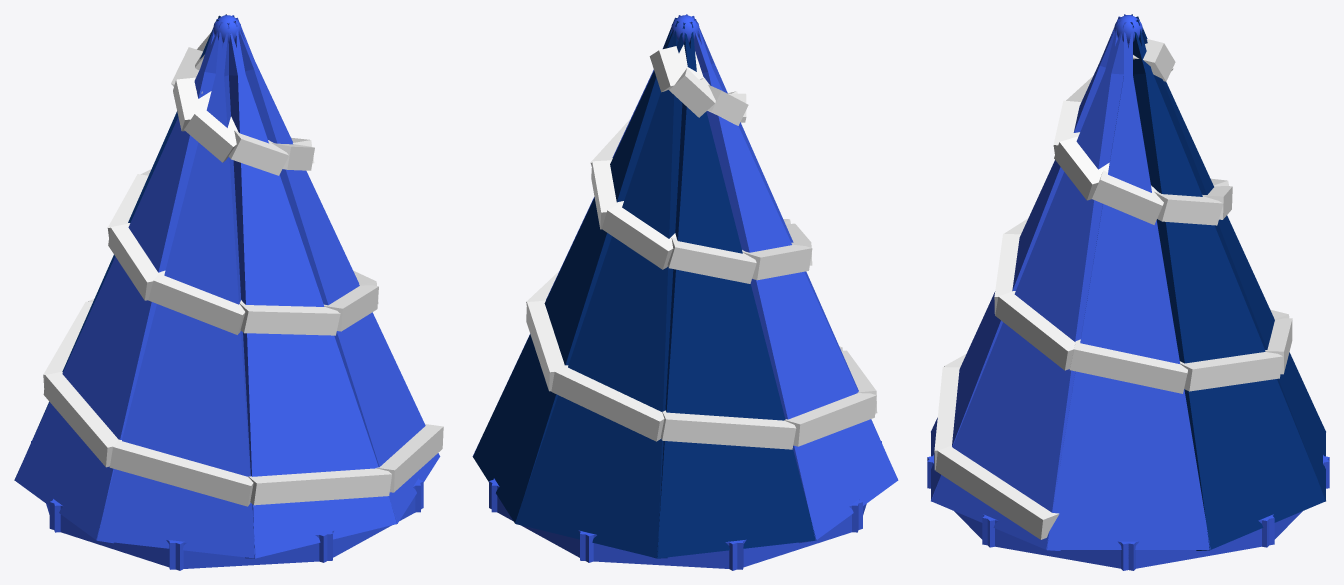
File: CMU3DClothingHeadHatPartyBlueWorldCloud.glb
3 renders of one model, left to right at view 1: azimuth 30°, elevation 25°; view 2: azimuth 150°, elevation 25°; view 3: azimuth 270°, elevation 25°, orthographic.
Parts seen in each view (by area): view 1: connected triangular cone panel 05.1, connected triangular cone panel 05.0, connected triangular cone panel 06.0, connected triangular cone panel 06.1, connected triangular cone panel 04.1, connected triangular cone panel 04.0, connected triangular cone panel 07.0, connected triangular cone panel 07.1, source diagonal white spiral 05.0, source diagonal white spiral 06.0, source diagonal white spiral 05.1, source diagonal white spiral 04.0 (+15 smaller); view 2: connected triangular cone panel 03.0, connected triangular cone panel 02.0, connected triangular cone panel 02.1, connected triangular cone panel 03.1, connected triangular cone panel 04.0, connected triangular cone panel 04.1, connected triangular cone panel 01.1, connected triangular cone panel 01.0, source diagonal white spiral 03.0, source diagonal white spiral 02.0, source diagonal white spiral 04.0, source diagonal white spiral 03.1 (+13 smaller); view 3: connected triangular cone panel 00.0, connected triangular cone panel 01.0, connected triangular cone panel 00.1, connected triangular cone panel 07.1, connected triangular cone panel 07.0, connected triangular cone panel 01.1, connected triangular cone panel 02.0, source diagonal white spiral 07.0, connected triangular cone panel 06.1, source diagonal white spiral 00.0, source diagonal white spiral 01.0, source diagonal white spiral 07.1 (+16 smaller).
Part boxes in pixels (left/top/right/bottom): connected triangular cone panel 05.1: left=172, top=22, right=255, bottom=558; connected triangular cone panel 05.0: left=96, top=23, right=229, bottom=548; connected triangular cone panel 06.0: left=229, top=21, right=328, bottom=558; connected triangular cone panel 06.1: left=227, top=23, right=397, bottom=539; connected triangular cone panel 04.1: left=56, top=19, right=218, bottom=543; connected triangular cone panel 04.0: left=14, top=22, right=222, bottom=505; connected triangular cone panel 07.0: left=236, top=17, right=416, bottom=527; connected triangular cone panel 07.1: left=233, top=21, right=439, bottom=481; source diagonal white spiral 05.0: left=109, top=439, right=253, bottom=506; source diagonal white spiral 06.0: left=248, top=468, right=391, bottom=505; source diagonal white spiral 05.1: left=148, top=271, right=245, bottom=334; source diagonal white spiral 04.0: left=43, top=371, right=118, bottom=467; connected triangular cone panel 03.0: left=654, top=22, right=740, bottom=558; connected triangular cone panel 02.0: left=515, top=23, right=685, bottom=539; connected triangular cone panel 02.1: left=585, top=21, right=682, bottom=558; connected triangular cone panel 03.1: left=683, top=22, right=816, bottom=548; connected triangular cone panel 04.0: left=694, top=19, right=856, bottom=543; connected triangular cone panel 04.1: left=689, top=22, right=897, bottom=505; connected triangular cone panel 01.1: left=496, top=17, right=676, bottom=528; connected triangular cone panel 01.0: left=473, top=21, right=678, bottom=481; source diagonal white spiral 03.0: left=660, top=410, right=796, bottom=449; source diagonal white spiral 02.0: left=551, top=365, right=664, bottom=441; source diagonal white spiral 04.0: left=784, top=393, right=876, bottom=446; source diagonal white spiral 03.1: left=667, top=237, right=756, bottom=283; connected triangular cone panel 00.0: left=1046, top=23, right=1132, bottom=549; connected triangular cone panel 01.0: left=1133, top=19, right=1268, bottom=550; connected triangular cone panel 00.1: left=1124, top=23, right=1210, bottom=549; connected triangular cone panel 07.1: left=988, top=19, right=1123, bottom=550; connected triangular cone panel 07.0: left=931, top=22, right=1128, bottom=522; connected triangular cone panel 01.1: left=1128, top=22, right=1325, bottom=522; connected triangular cone panel 02.0: left=1136, top=16, right=1325, bottom=501; source diagonal white spiral 07.0: left=935, top=445, right=1059, bottom=539; connected triangular cone panel 06.1: left=931, top=16, right=1120, bottom=501; source diagonal white spiral 00.0: left=1069, top=340, right=1187, bottom=393; source diagonal white spiral 01.0: left=1180, top=352, right=1282, bottom=391; source diagonal white spiral 07.1: left=995, top=291, right=1080, bottom=370.
Bounding box in the file's own units: 0.2741 × 0.353 × 0.2741.
